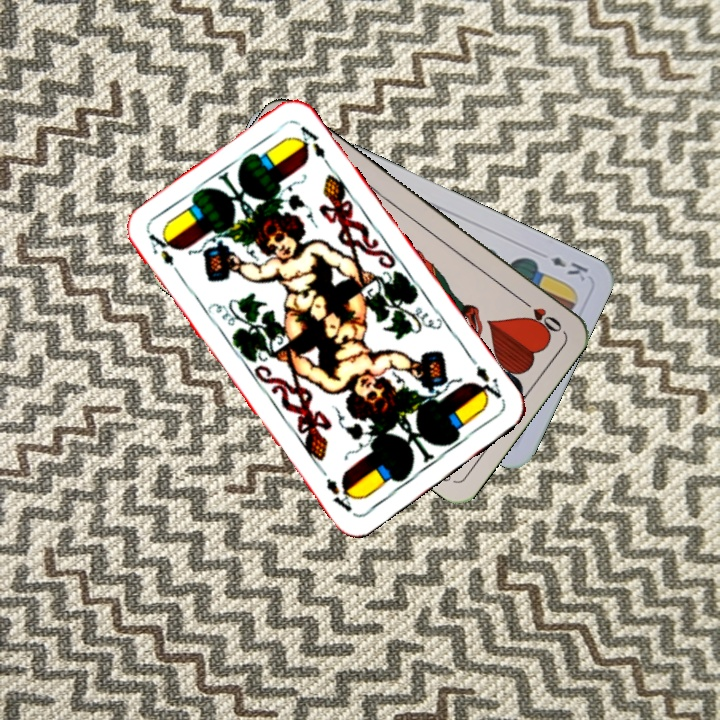EA: (465, 353, 504, 407), (144, 229, 184, 280)
EK: (546, 253, 591, 284)
HO: (515, 293, 565, 335)
